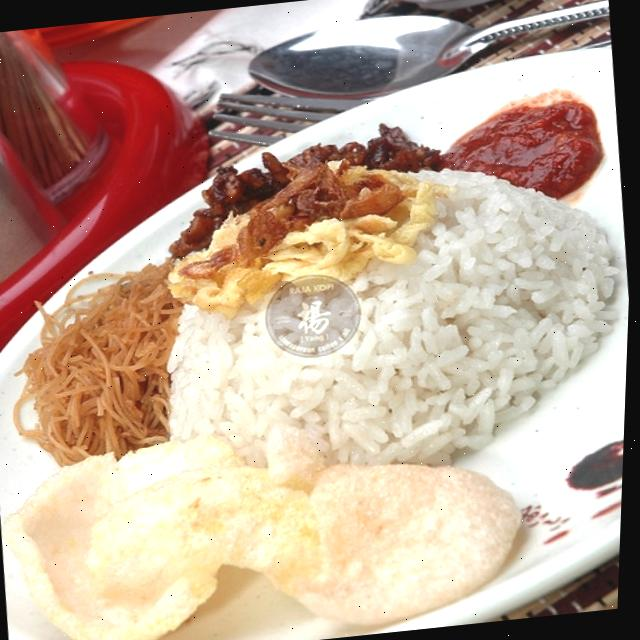米饭主食: (0, 28, 639, 640)
